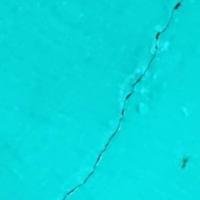crack: (55, 0, 182, 199)
